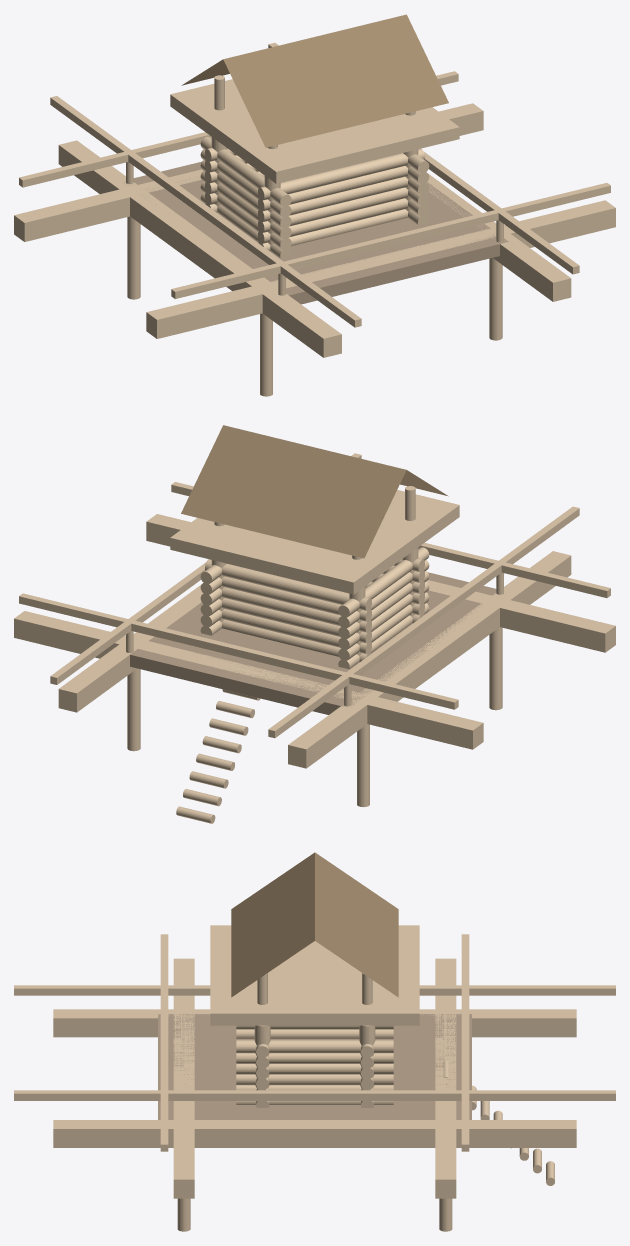
Rendered from 河姆渡.glb.
3 views of the same model, one above another, from view 1: azimuth 30°, elevation 25°; view 2: azimuth 150°, elevation 25°; view 3: azimuth 270°, elevation 25° (orthographic).
Visible parts, largest first — view 1: roof_front, ridge, floor, beam_(-1.0, 0, 0.8), beam_(0, -1.0, 0.8), hand_(0, -1.15, 1.1), beam_(0, 1.0, 0.8), hand_(-0.95, 0, 1.1), beam_(1.0, 0, 0.8), hand_(0, 1.15, 1.1), hand_(0.95, 0, 1.1), stump_1 (+15 smaller); view 2: roof_front.001, floor, ridge, beam_(-1.0, 0, 0.8), beam_(0, 1.0, 0.8), hand_(0, 1.15, 1.1), beam_(0, -1.0, 0.8), hand_(-0.95, 0, 1.1), beam_(1.0, 0, 0.8), hand_(0, -1.15, 1.1), hand_(0.95, 0, 1.1), stump_0 (+15 smaller); view 3: beam_(1.0, 0, 0.8), ridge, floor, roof_front, roof_front.001, hand_(0.95, 0, 1.1), beam_(-1.0, 0, 0.8), beam_(0, -1.0, 0.8), beam_(0, 1.0, 0.8), hand_(-0.95, 0, 1.1), hand_(0, -1.15, 1.1), hand_(0, 1.15, 1.1) (+10 smaller).
Part boxes in pixels (bbox=[...]): roof_front: bbox=[223, 14, 448, 147]; ridge: bbox=[170, 79, 459, 183]; floor: bbox=[124, 161, 508, 304]; beam_(-1.0, 0, 0.8): bbox=[58, 140, 341, 357]; beam_(0, -1.0, 0.8): bbox=[146, 200, 615, 338]; hand_(0, -1.15, 1.1): bbox=[171, 183, 610, 298]; beam_(0, 1.0, 0.8): bbox=[14, 103, 483, 241]; hand_(-0.95, 0, 1.1): bbox=[50, 96, 361, 327]; beam_(1.0, 0, 0.8): bbox=[427, 174, 571, 301]; hand_(0, 1.15, 1.1): bbox=[19, 71, 458, 187]; hand_(0.95, 0, 1.1): bbox=[268, 42, 579, 274]; stump_1: bbox=[127, 216, 140, 299]; roof_front.001: bbox=[181, 425, 406, 558]; floor: bbox=[130, 572, 496, 714]; ridge: bbox=[170, 490, 459, 594]; beam_(-1.0, 0, 0.8): bbox=[288, 551, 571, 768]; beam_(0, 1.0, 0.8): bbox=[14, 611, 483, 749]; hand_(0, 1.15, 1.1): bbox=[19, 593, 458, 709]; beam_(0, -1.0, 0.8): bbox=[146, 514, 615, 652]; hand_(-0.95, 0, 1.1): bbox=[268, 506, 579, 738]; beam_(1.0, 0, 0.8): bbox=[58, 584, 203, 712]; hand_(0, -1.15, 1.1): bbox=[171, 482, 610, 597]; hand_(0.95, 0, 1.1): bbox=[50, 453, 361, 684]; stump_0: bbox=[489, 627, 502, 710]; beam_(1.0, 0, 0.8): bbox=[53, 1120, 576, 1147]; ridge: bbox=[210, 925, 419, 1025]; floor: bbox=[158, 1014, 471, 1119]; roof_front: bbox=[231, 852, 314, 997]; roof_front.001: bbox=[315, 852, 398, 997]; hand_(0.95, 0, 1.1): bbox=[14, 1090, 615, 1100]; beam_(-1.0, 0, 0.8): bbox=[53, 1009, 576, 1037]; beam_(0, -1.0, 0.8): bbox=[173, 958, 194, 1198]; beam_(0, 1.0, 0.8): bbox=[435, 958, 456, 1198]; hand_(-0.95, 0, 1.1): bbox=[14, 985, 615, 995]; hand_(0, -1.15, 1.1): bbox=[160, 934, 168, 1151]; hand_(0, 1.15, 1.1): bbox=[461, 934, 469, 1151].
Bounding box in the file's own units: 4 × 2.37 × 4.6.
